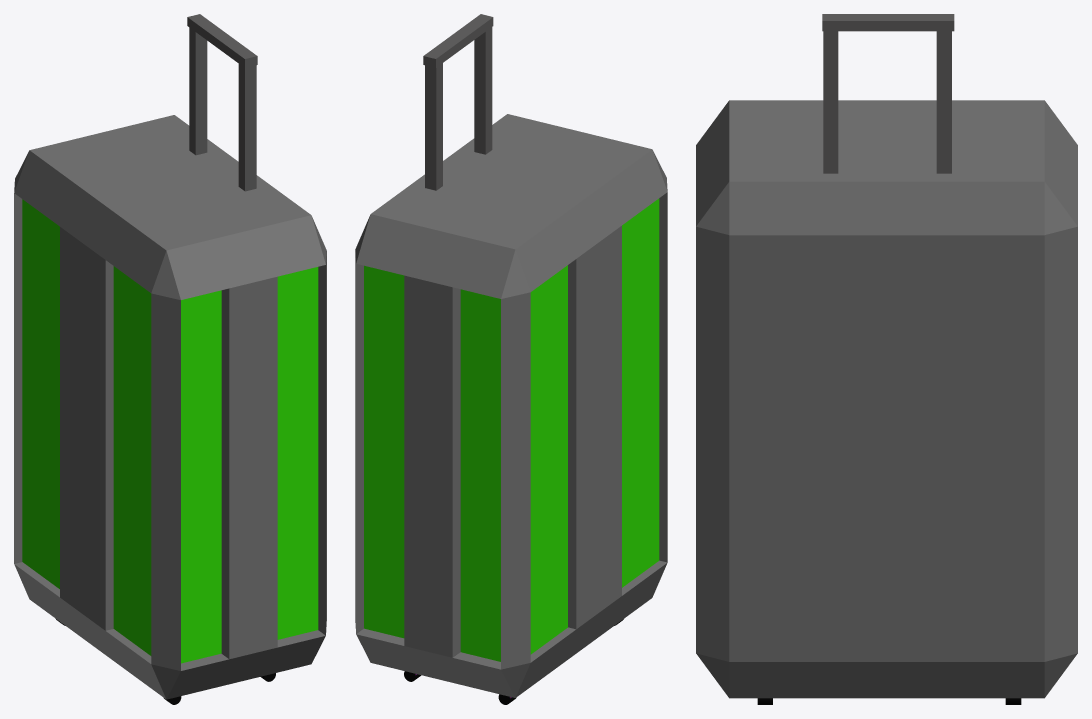
File: luggage1.fbx
3 renders of one model, left to right at view 1: azimuth 30°, elevation 25°; view 2: azimuth 150°, elevation 25°; view 3: azimuth 270°, elevation 25°, orthographic. The views are drawn at different scales.
Visible parts, largest first — view 1: Cube.003; view 2: Cube.003; view 3: Cube.003.
Boxes of the visible parts, box(x1,y1,x2,y2) form: Cube.003: box(14, 14, 326, 704); Cube.003: box(355, 14, 667, 704); Cube.003: box(696, 14, 1077, 704).
Bounding box in the file's own units: 353 × 1154 × 577.
